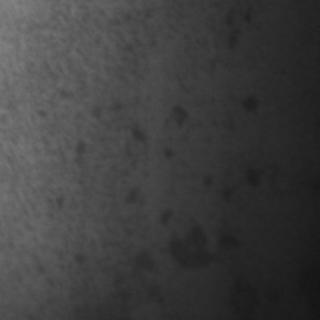pitted_surface: (21, 6, 176, 302), (124, 78, 216, 290)
